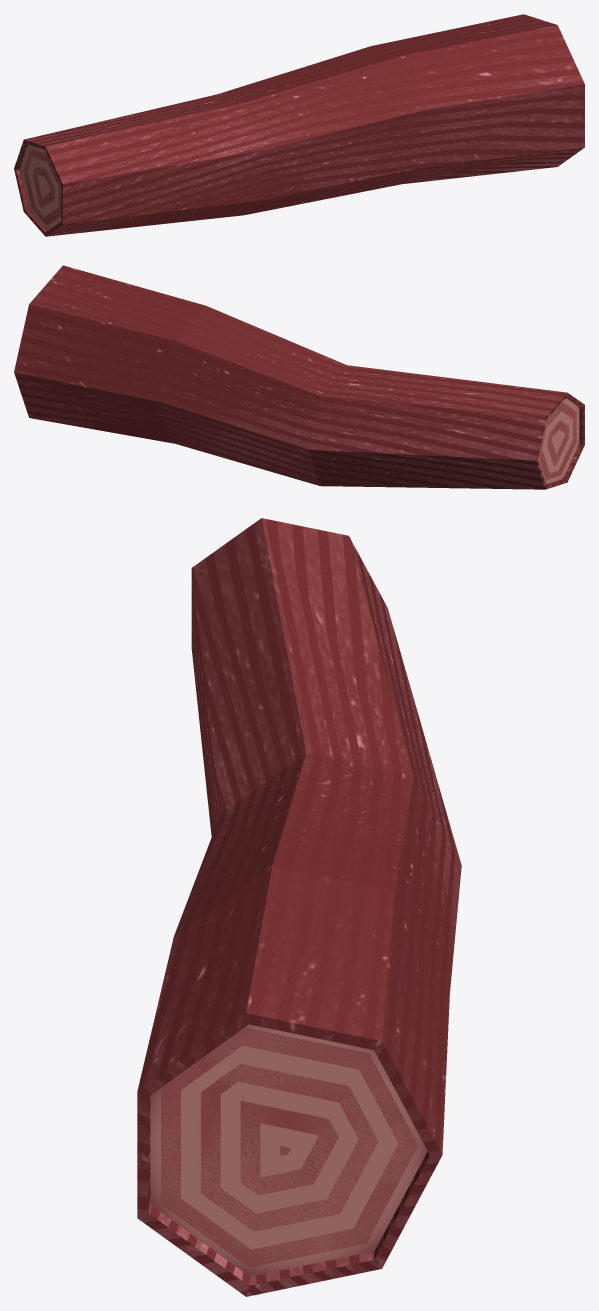
File: FBranch_01.fbx
The picture shows the model from 3 angles, top to bottom: view 1: azimuth 30°, elevation 25°; view 2: azimuth 150°, elevation 25°; view 3: azimuth 270°, elevation 25°; orthographic projection. The views are drawn at different scales.
Visible parts, largest first — view 1: Cylinder.013; view 2: Cylinder.013; view 3: Cylinder.013.
Part boxes in pixels (bbox=[...]): Cylinder.013: bbox=[14, 14, 584, 236]; Cylinder.013: bbox=[14, 265, 584, 489]; Cylinder.013: bbox=[137, 518, 461, 1296].
Size of the model in its own units: 768 by 206 by 212.
